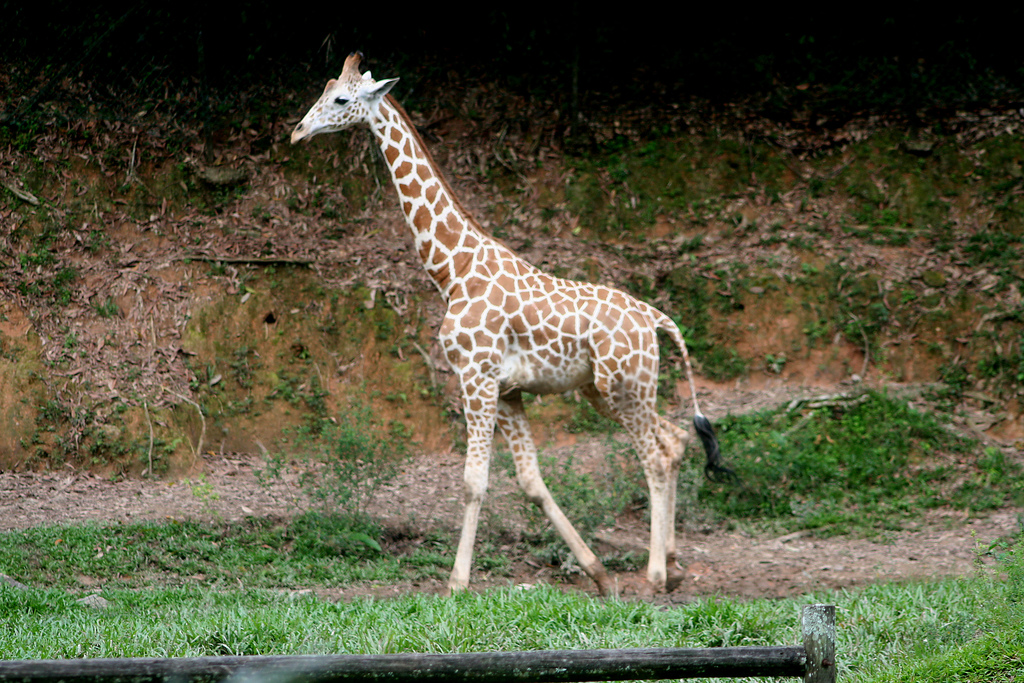giraffe: (268, 47, 738, 612)
